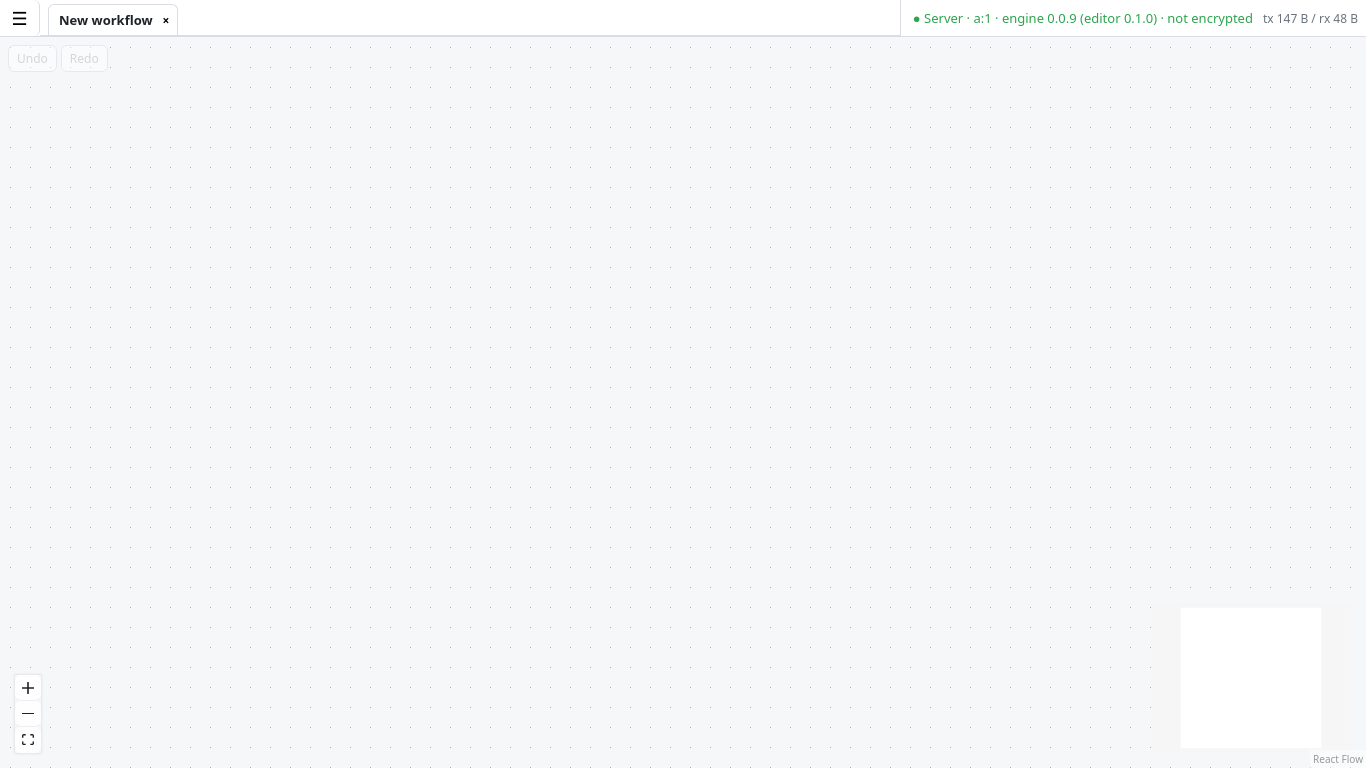
раздел «Engine» › выбранный сервер другой версии engine — подпись с обеими версиями (US6 #3)
This screenshot has width=1366, height=768.
Step 1. Click the button named "Menu" → x=20, y=18, box [0, 0, 40, 36]
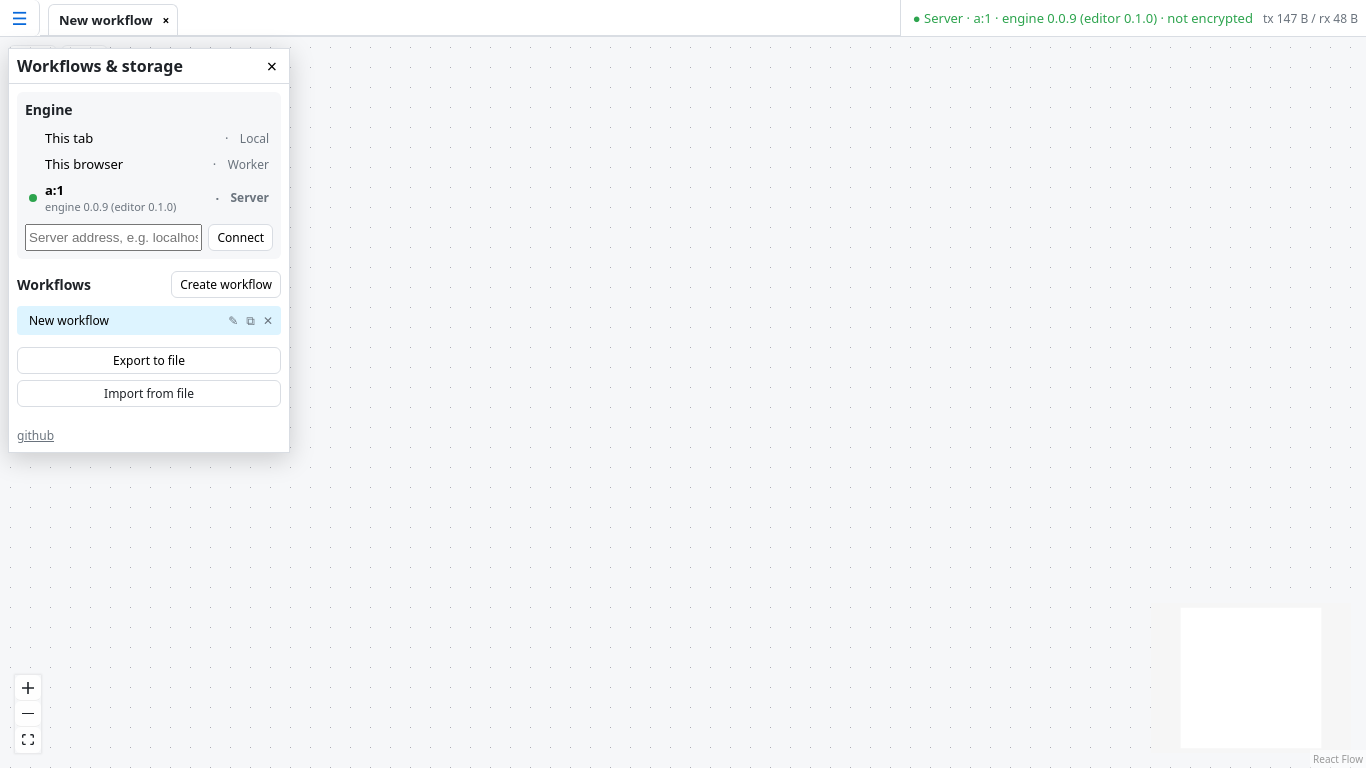
Result: the text "engine 0.0.9 (editor 0.1.0)" is shown at [45, 199, 176, 214]
